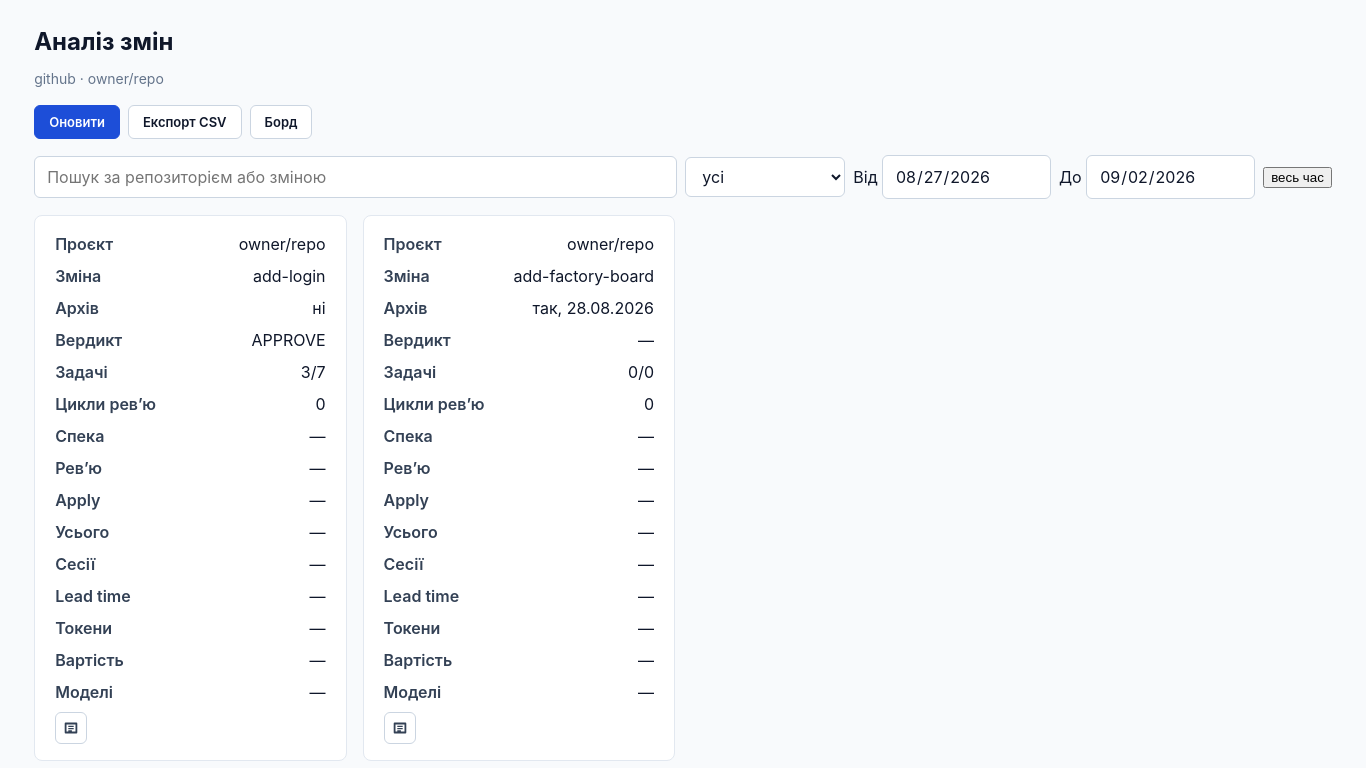
Test: AnalysisView › filters visible rows to archived changes
Expected: the number of elements with class "analysis-change-card" is 2, [34,215,346,761]; [363,215,675,761]
Select "архів" in the dropdown. click: [765, 177]
box: [685,157,845,197]
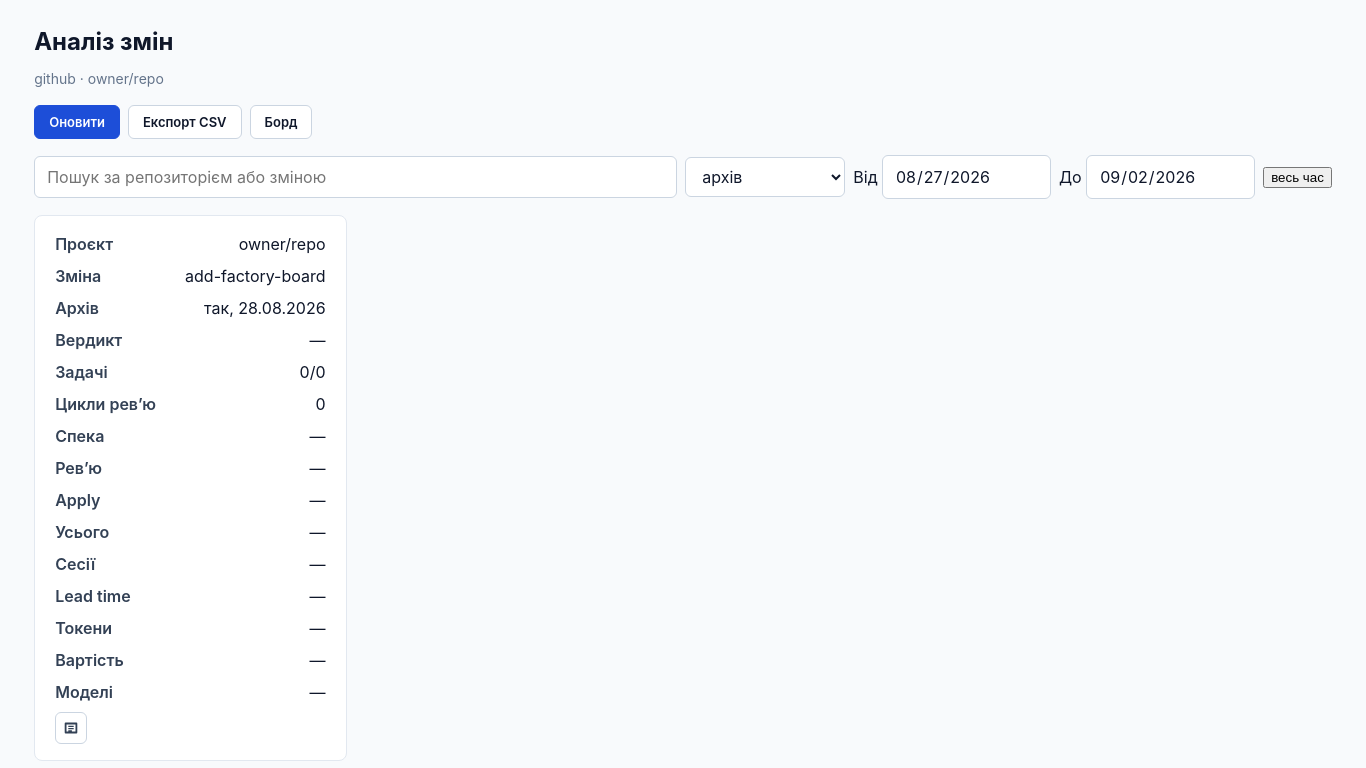
Expected: the text "add-factory-board" is shown, [185,264,326,288]
Expected: the number of elements with class "analysis-change-card" is 1, [34,215,346,761]
Expected: the text "add-login" is gone
